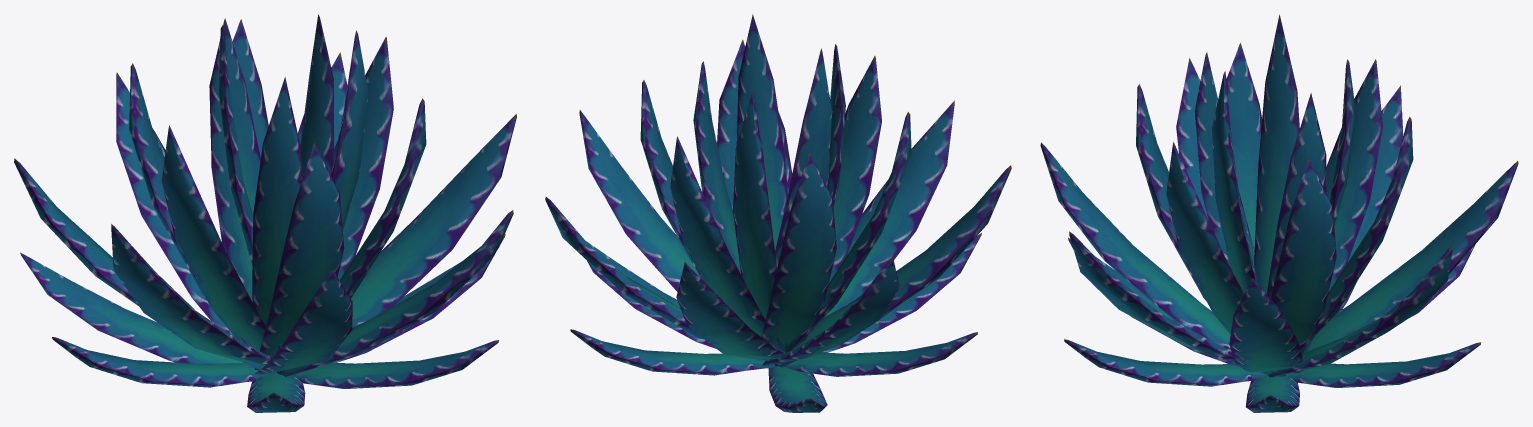
File: DE_Cactus_08.fbx
3 renders of one model, left to right at view 1: azimuth 30°, elevation 25°; view 2: azimuth 150°, elevation 25°; view 3: azimuth 270°, elevation 25°, orthographic. The views are drawn at different scales.
Parts seen in each view (by area): view 1: DE_Cactus_08; view 2: DE_Cactus_08; view 3: DE_Cactus_08.
Part boxes in pixels (left/top/right/bottom): DE_Cactus_08: left=14, top=14, right=516, bottom=412; DE_Cactus_08: left=545, top=14, right=1011, bottom=412; DE_Cactus_08: left=1040, top=14, right=1518, bottom=412.
Size of the model in its own units: 3.7 by 2.81 by 3.64.
